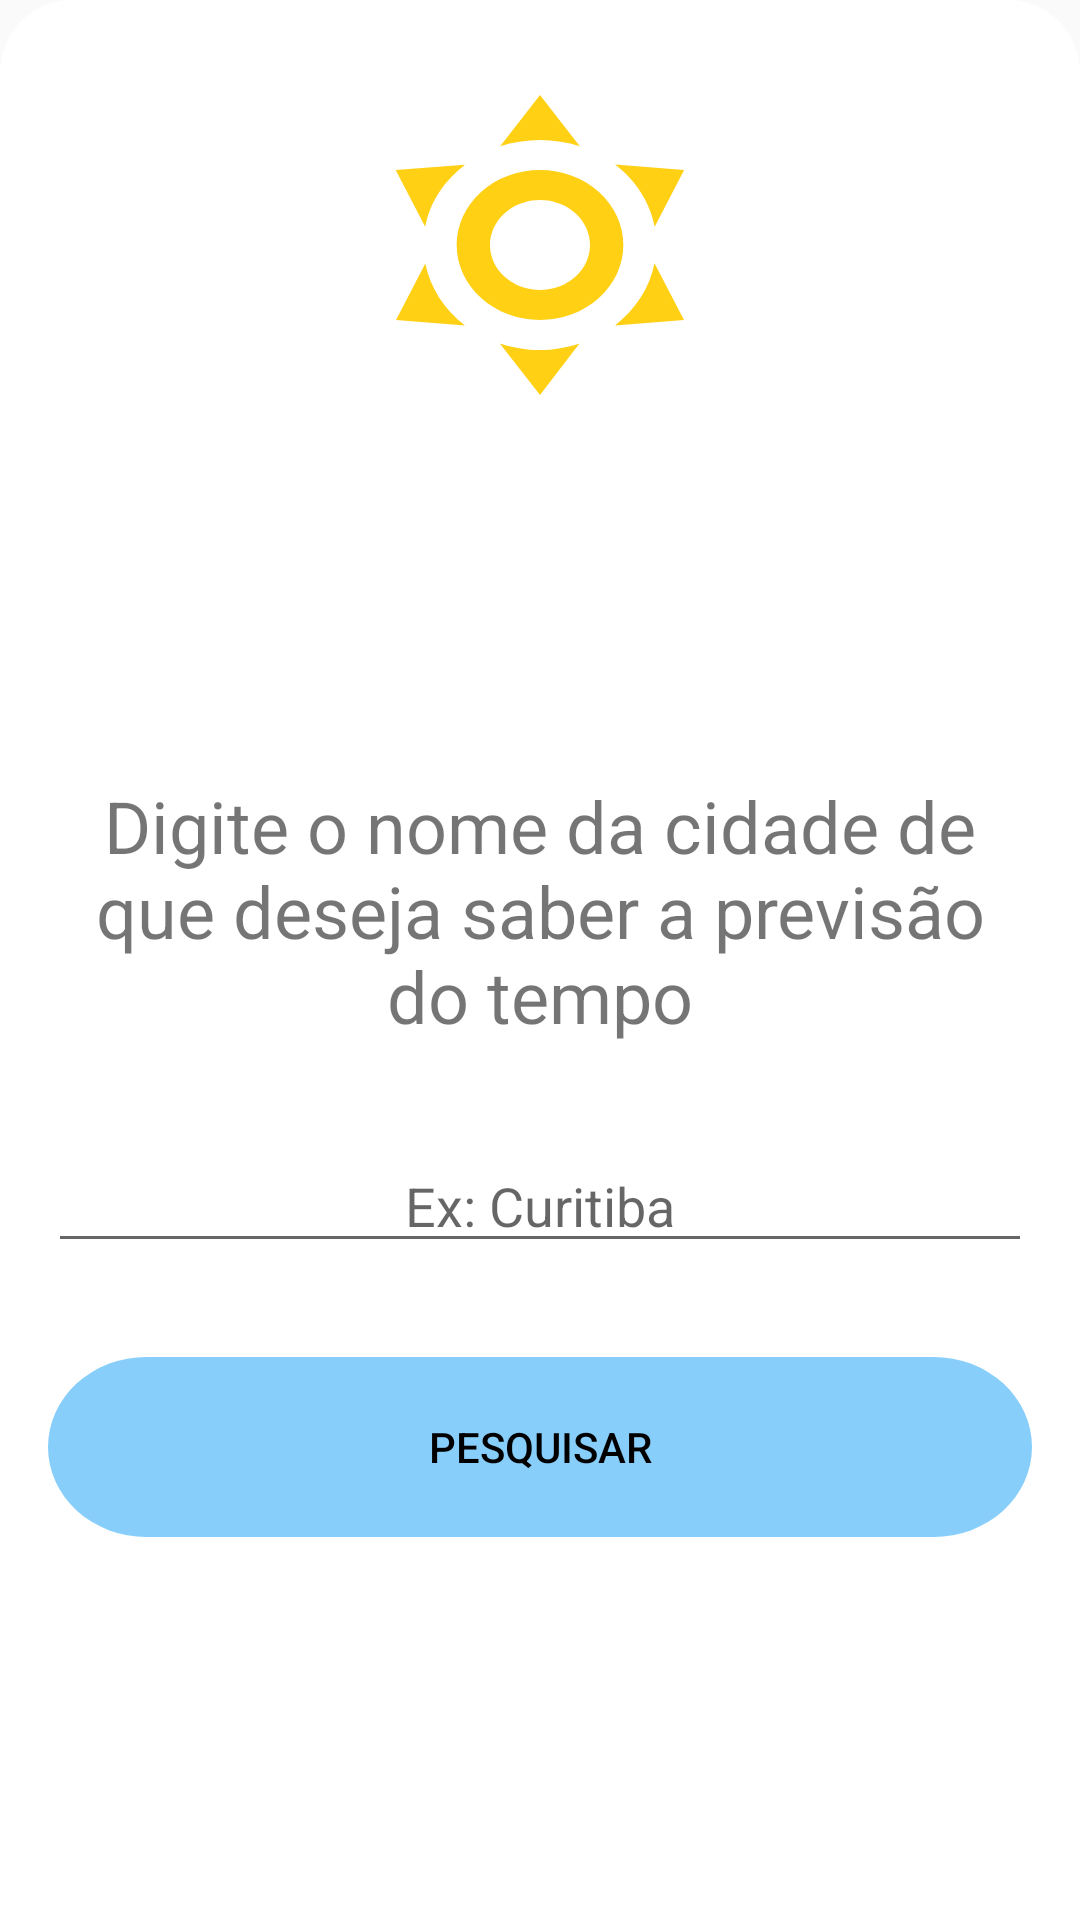

Screen size 1080w x 1920h. Icon name, then its box in pixels as [x1, y1, x2, y2]:
sunny: [396, 95, 684, 395]
